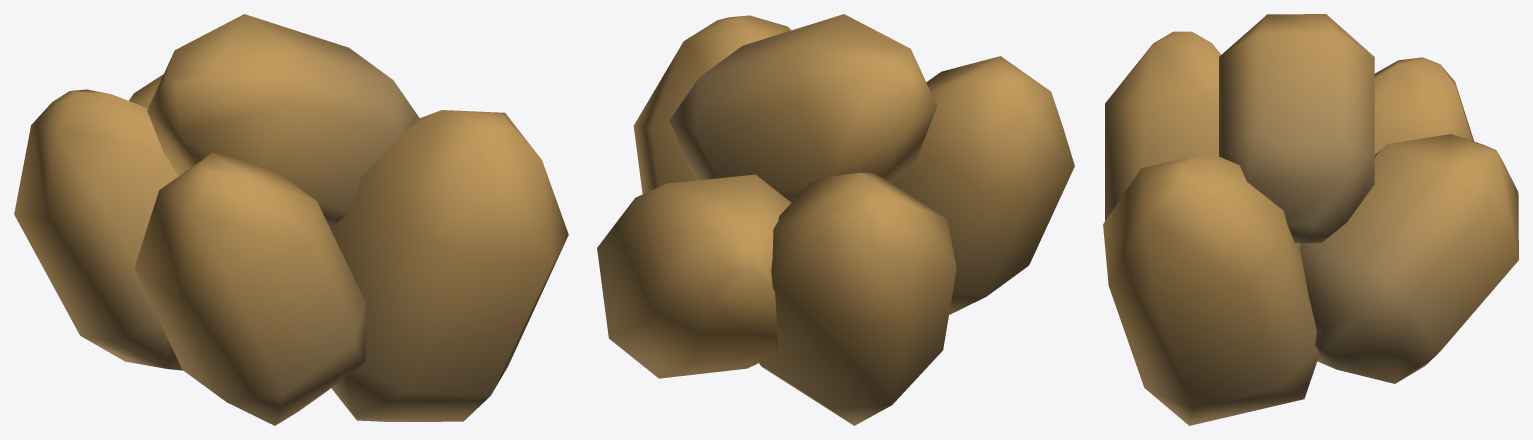
Rendered from potato_bunch.fbx.
The picture shows the model from 3 angles, left to right: view 1: azimuth 30°, elevation 25°; view 2: azimuth 150°, elevation 25°; view 3: azimuth 270°, elevation 25°; orthographic projection. The views are drawn at different scales.
Parts seen in each view (by area): view 1: potato_bunch; view 2: potato_bunch; view 3: potato_bunch.
Boxes of the visible parts, left/top/right/bottom form: potato_bunch: left=14, top=14, right=568, bottom=425; potato_bunch: left=597, top=14, right=1074, bottom=425; potato_bunch: left=1103, top=14, right=1518, bottom=425.
Size of the model in its own units: 36.58 by 33.59 by 37.16.
